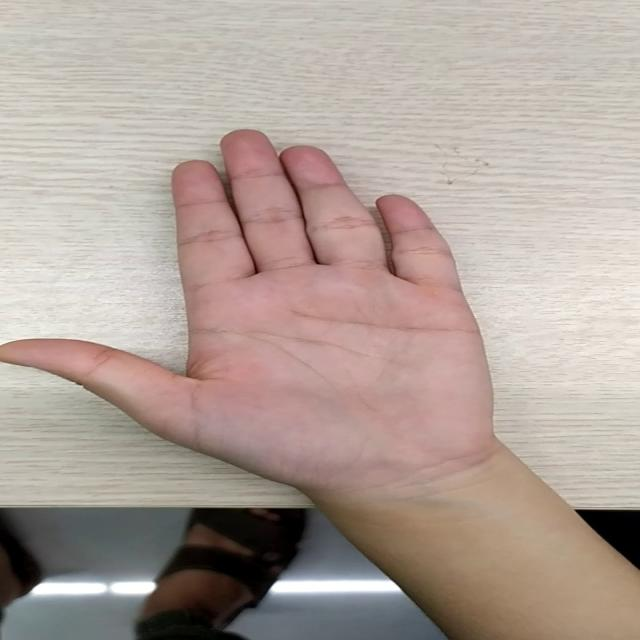hand: (14, 133, 510, 491)
